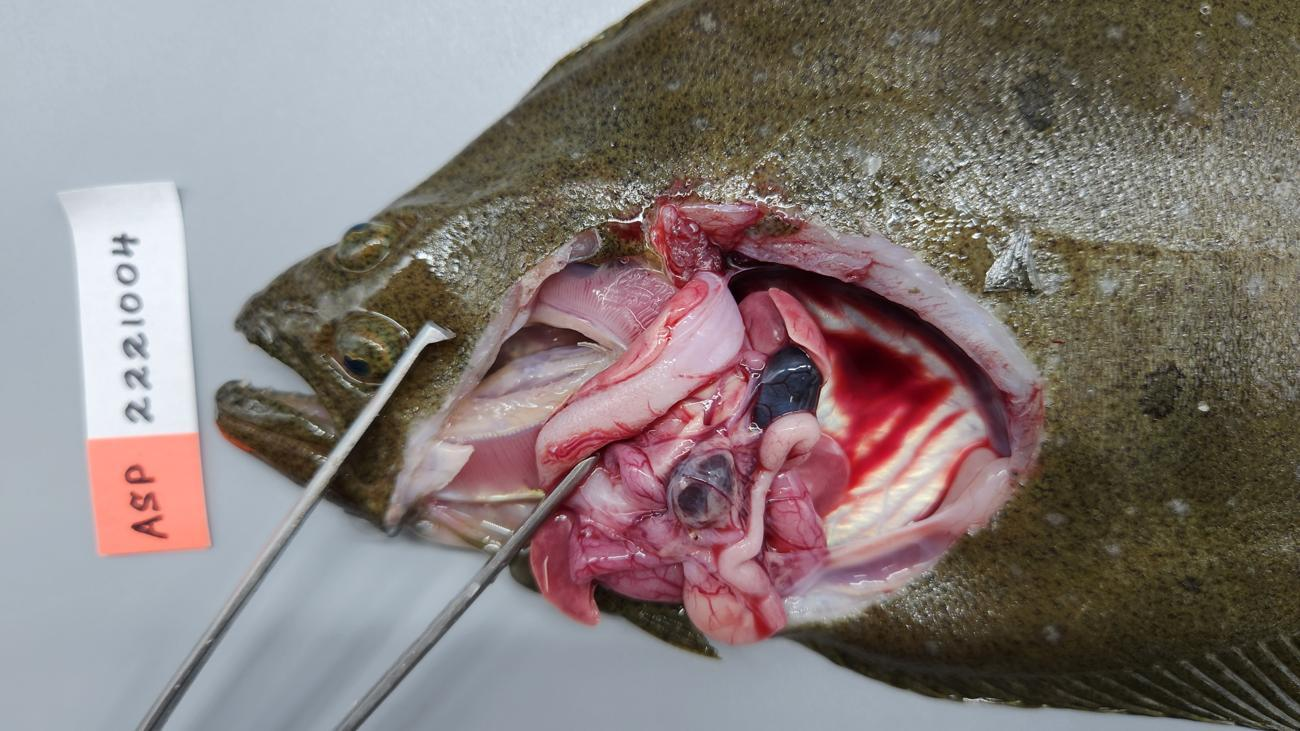SPINI: (684, 584, 755, 643)
